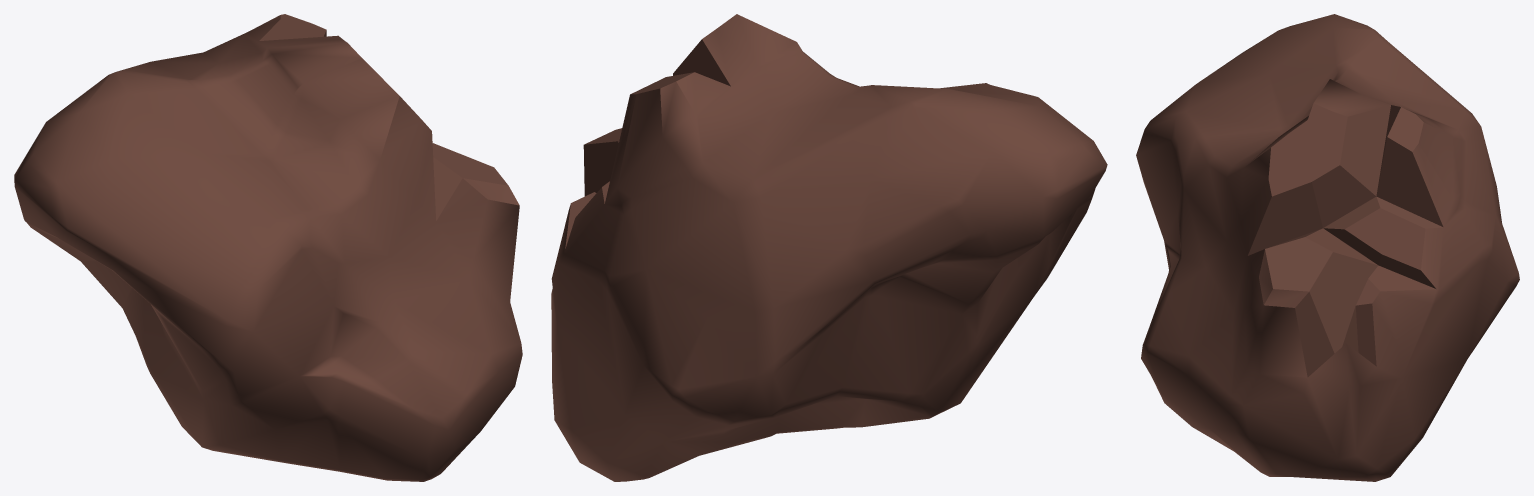
The model's file is p_mesh_hvs_stalagmite_large_destruction_part01.fbx.
The picture shows the model from 3 angles, left to right: view 1: azimuth 30°, elevation 25°; view 2: azimuth 150°, elevation 25°; view 3: azimuth 270°, elevation 25°; orthographic projection. The views are drawn at different scales.
Visible parts, largest first — view 1: p_large_part1; view 2: p_large_part1; view 3: p_large_part1.
Part boxes in pixels (left/top/right/bottom): p_large_part1: left=14, top=14, right=522, bottom=481; p_large_part1: left=551, top=14, right=1107, bottom=481; p_large_part1: left=1136, top=14, right=1519, bottom=481.
Bounding box in the file's own units: 6.78 × 5.89 × 5.86.
